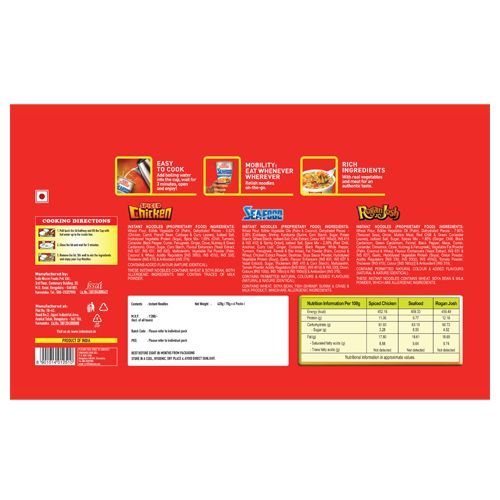nonveg_red: (34, 187, 51, 204)
